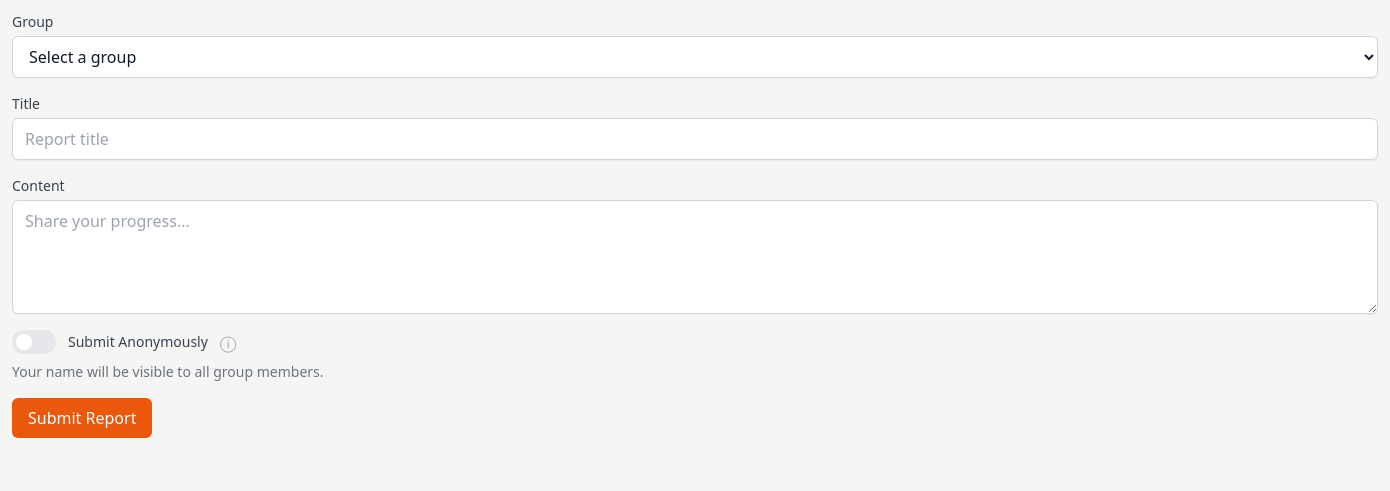
Test: CreateReportForm › should show success message after submission
The width and height of the screenshot is (1390, 491).
Select "Fitness Group" in the dropdown labelled "Group" at [695, 57], box [12,36,1378,78]
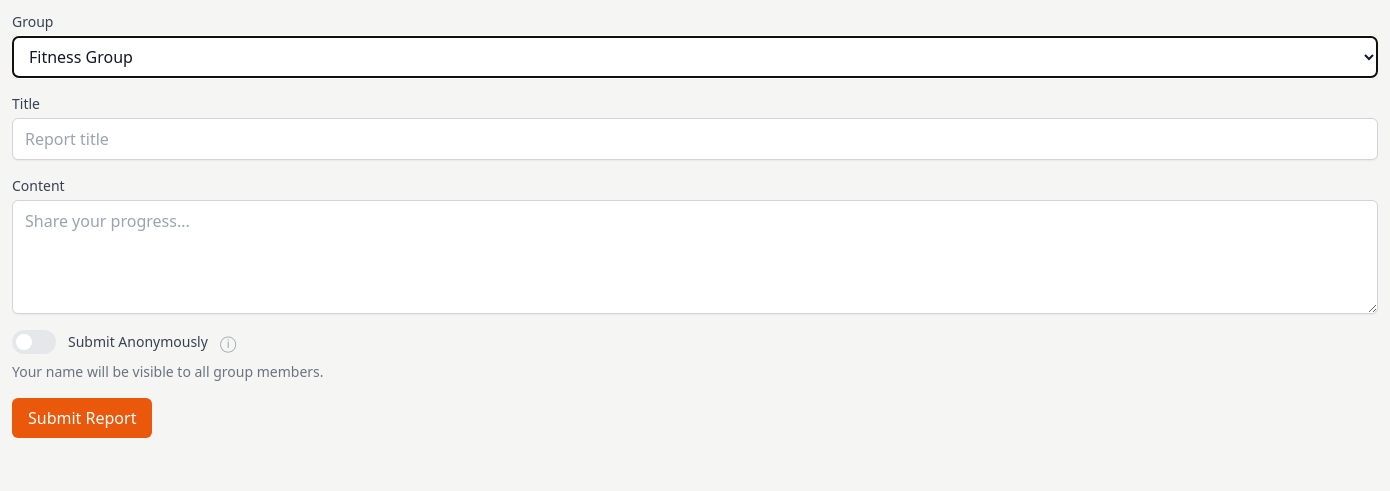
Type "Test" into the field labelled "Title" at [695, 139], box [12,118,1378,160]
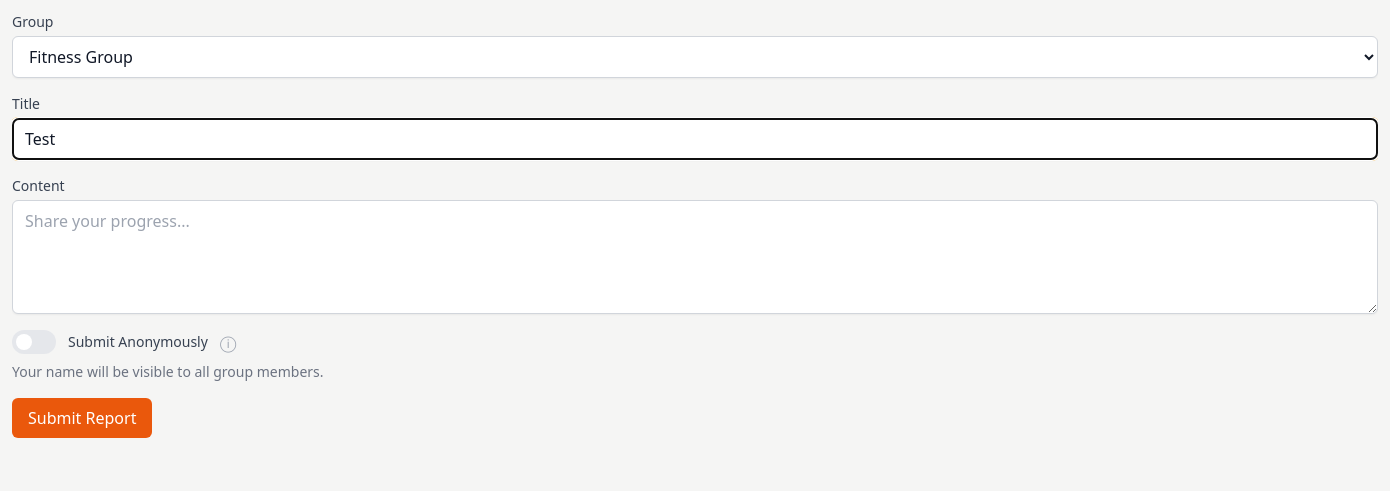
Type "Content" into the text box labelled "Content" at [695, 257], box [12,200,1378,314]
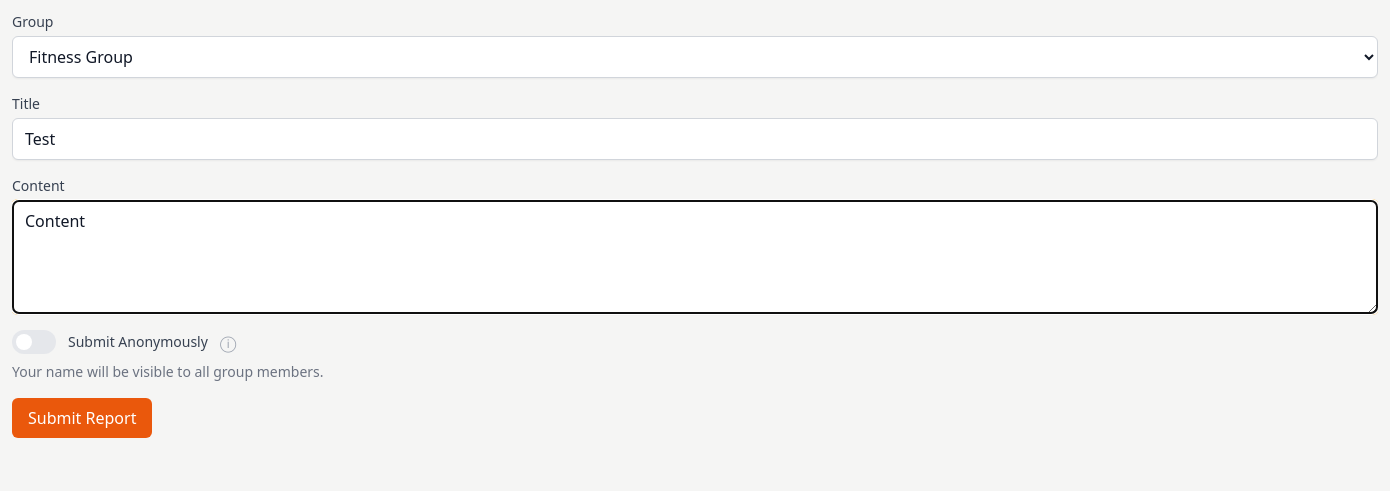
Click the button "Submit Report" at [82, 418], box [12,398,152,438]
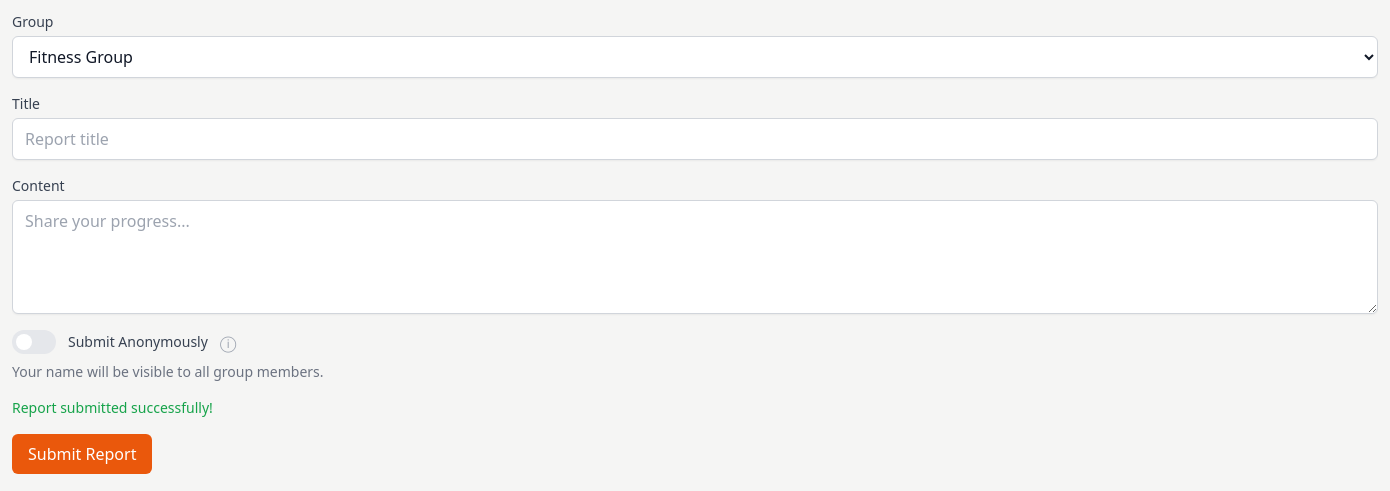
Now the text "Report submitted successfully!" is shown, box [12,398,213,417]
